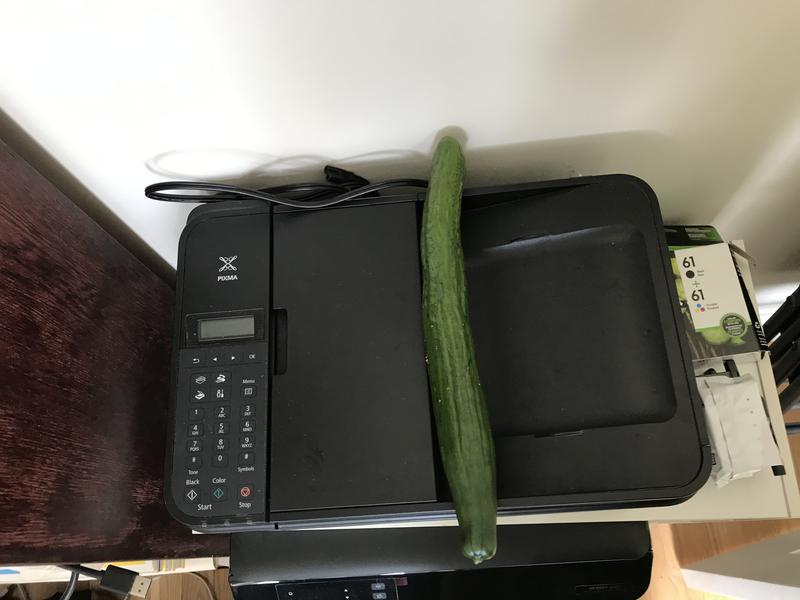cucumber: (411, 128, 514, 570)
